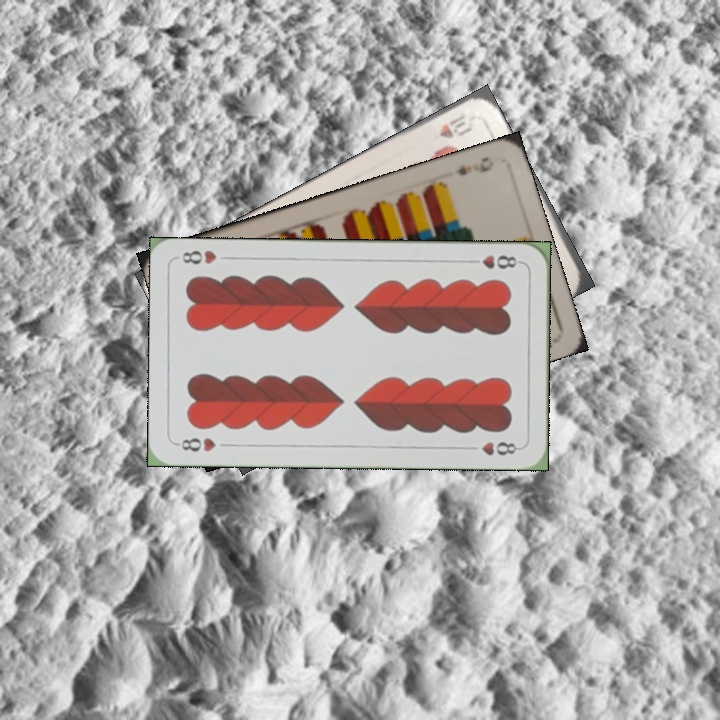E9: (451, 152, 496, 178)
H10: (435, 109, 476, 142)
H8: (465, 251, 524, 271), (173, 434, 219, 454)
